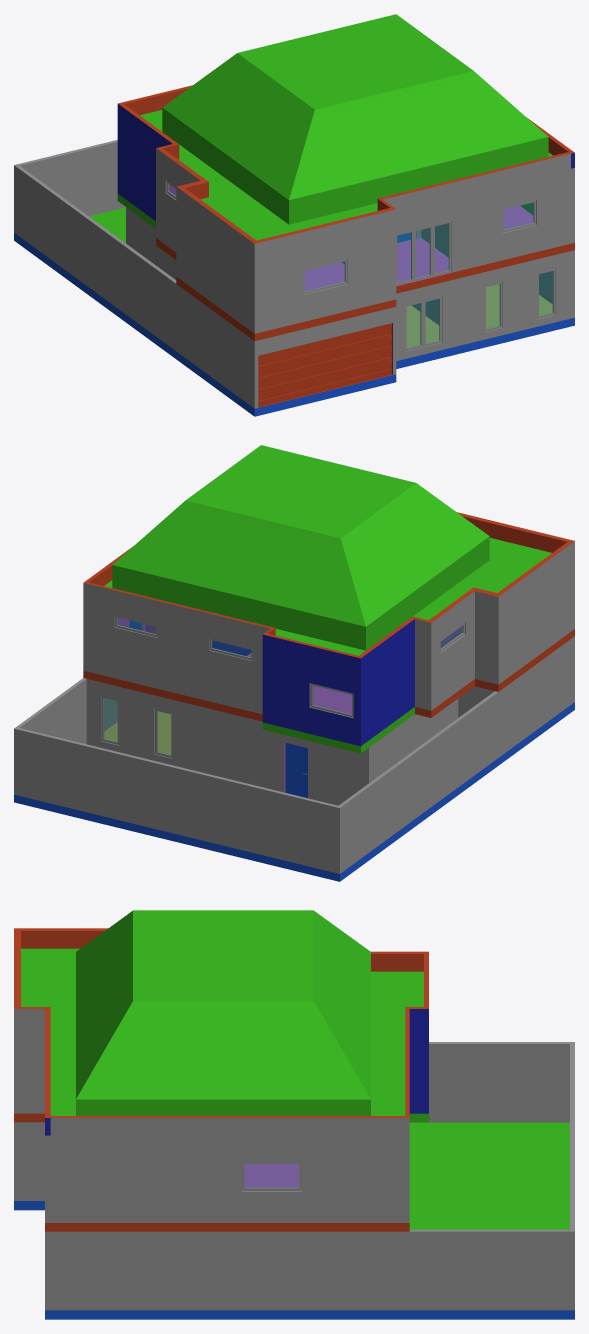
Rendered from HQHouse.FBX.
3 views of the same model, one above another, from view 1: azimuth 30°, elevation 25°; view 2: azimuth 150°, elevation 25°; view 3: azimuth 270°, elevation 25° (orthographic). The views are drawn at different scales.
Parts seen in each view (by area): view 1: Atico, Walls_1, Walls_2, Piso3, Piso1, Porton, Piso2, Ventanal_07, Ventanal_012, Ventanal_06, Ventanal_011, Ventanal_010 (+1 smaller); view 2: Walls_1, Atico, Walls_2, Piso3, Piso1, Piso2, Door_003, Ventanal_05, Ventanal_08, Ventanal_09, Ventanal_013, Ventanal_01; view 3: Atico, Walls_1, Walls_2, Piso3, Piso1, Piso2, Ventanal_03.
Part boxes in pixels (box(x1,y1,x2,y2)): Atico: box(162, 14, 548, 224); Walls_1: box(14, 140, 574, 408); Walls_2: box(117, 126, 574, 333); Piso3: box(117, 85, 574, 266); Piso1: box(14, 207, 574, 416); Porton: box(258, 323, 392, 407); Piso2: box(117, 194, 574, 340); Ventanal_07: box(396, 220, 451, 285); Ventanal_012: box(405, 296, 442, 351); Ventanal_06: box(303, 259, 347, 294); Ventanal_011: box(537, 268, 555, 319); Ventanal_010: box(484, 281, 502, 331); Walls_1: box(14, 636, 574, 873); Atico: box(112, 445, 489, 650); Walls_2: box(83, 563, 574, 746); Piso3: box(83, 512, 574, 680); Piso1: box(14, 702, 574, 881); Piso2: box(83, 629, 574, 753); Door_003: box(285, 743, 307, 797); Ventanal_05: box(310, 683, 353, 717); Ventanal_08: box(101, 696, 119, 744); Ventanal_09: box(155, 709, 172, 758); Ventanal_013: box(209, 638, 252, 660); Ventanal_01: box(114, 615, 157, 637); Atico: box(76, 910, 370, 1115); Walls_1: box(14, 1042, 574, 1310); Walls_2: box(14, 1035, 428, 1222); Piso3: box(14, 928, 428, 1144); Piso1: box(14, 1122, 574, 1319); Piso2: box(14, 1113, 428, 1231); Ventanal_03: box(241, 1162, 301, 1190).
Size of the model in its own units: 1428 by 992 by 1784.
